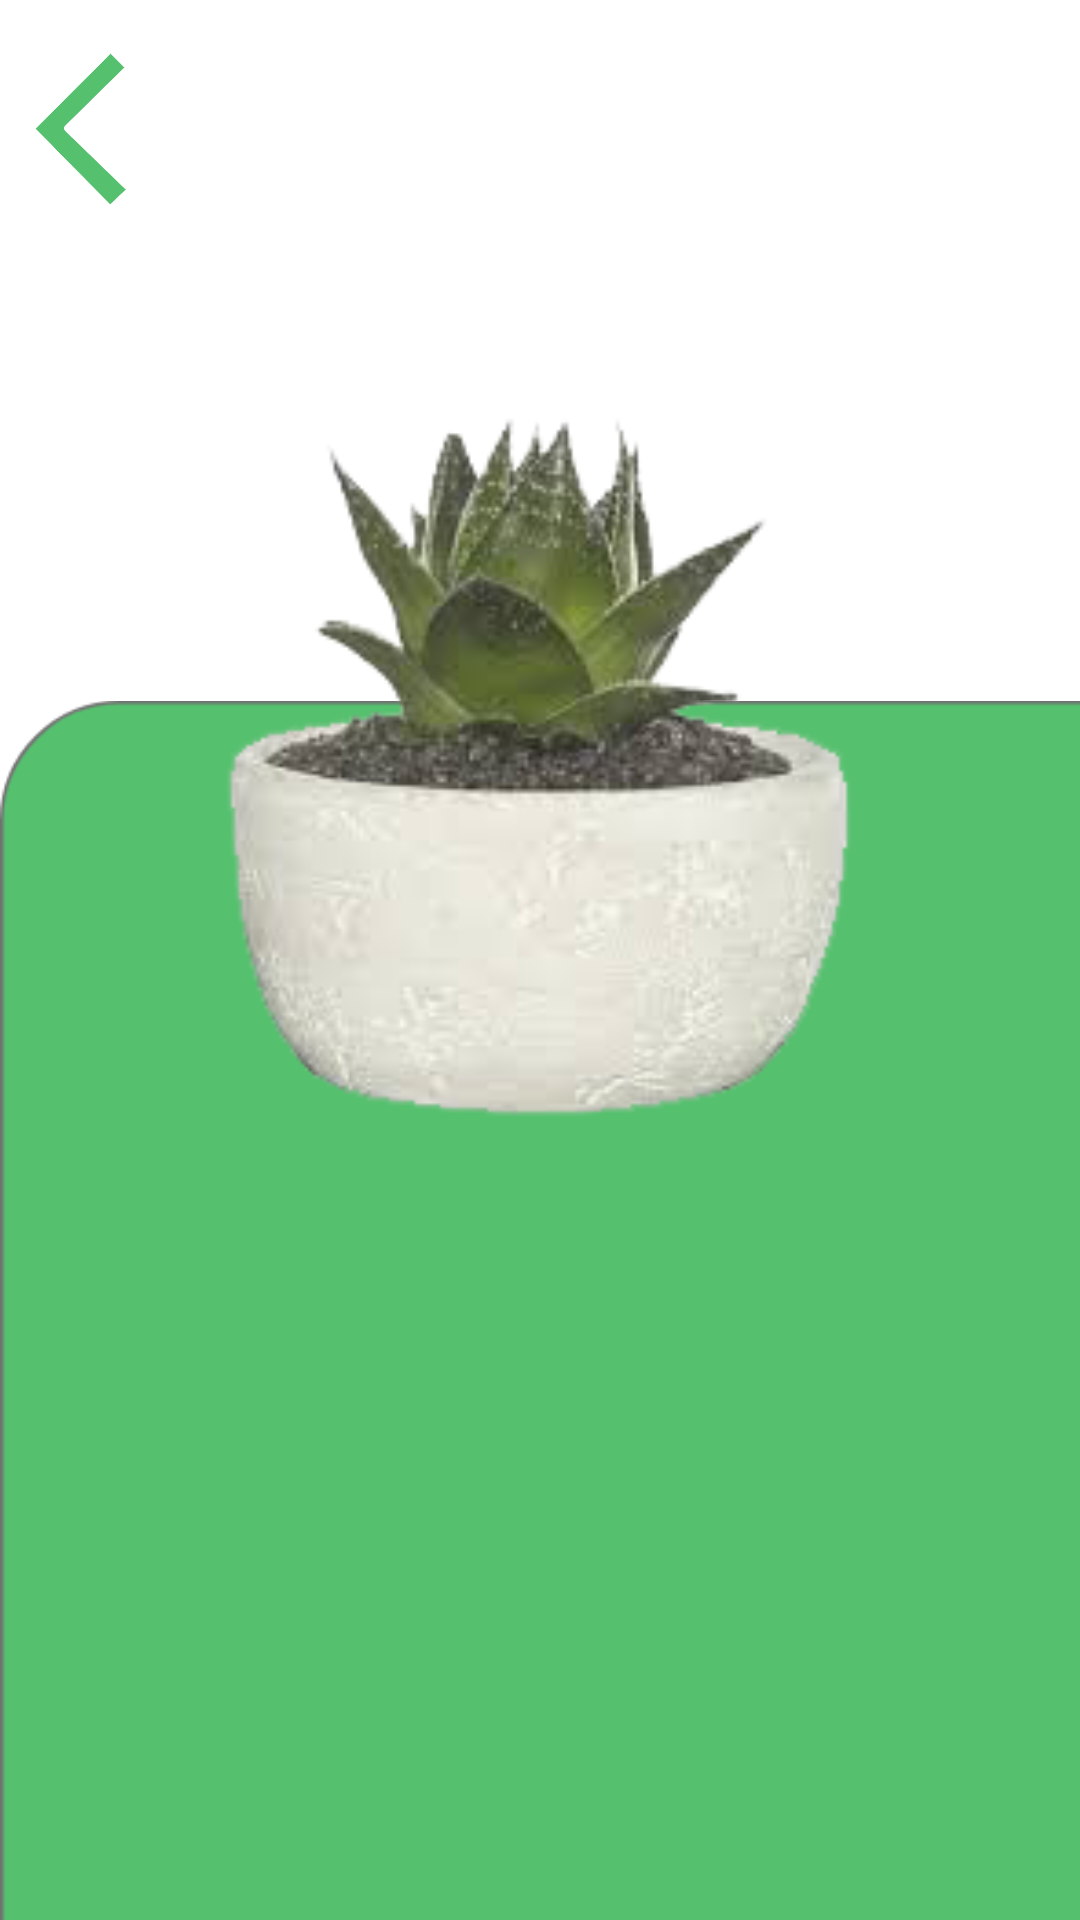

Screen size 1080 × 1920. Icon name, then its center in pixels as point (x, y):
back: point (81, 128)
